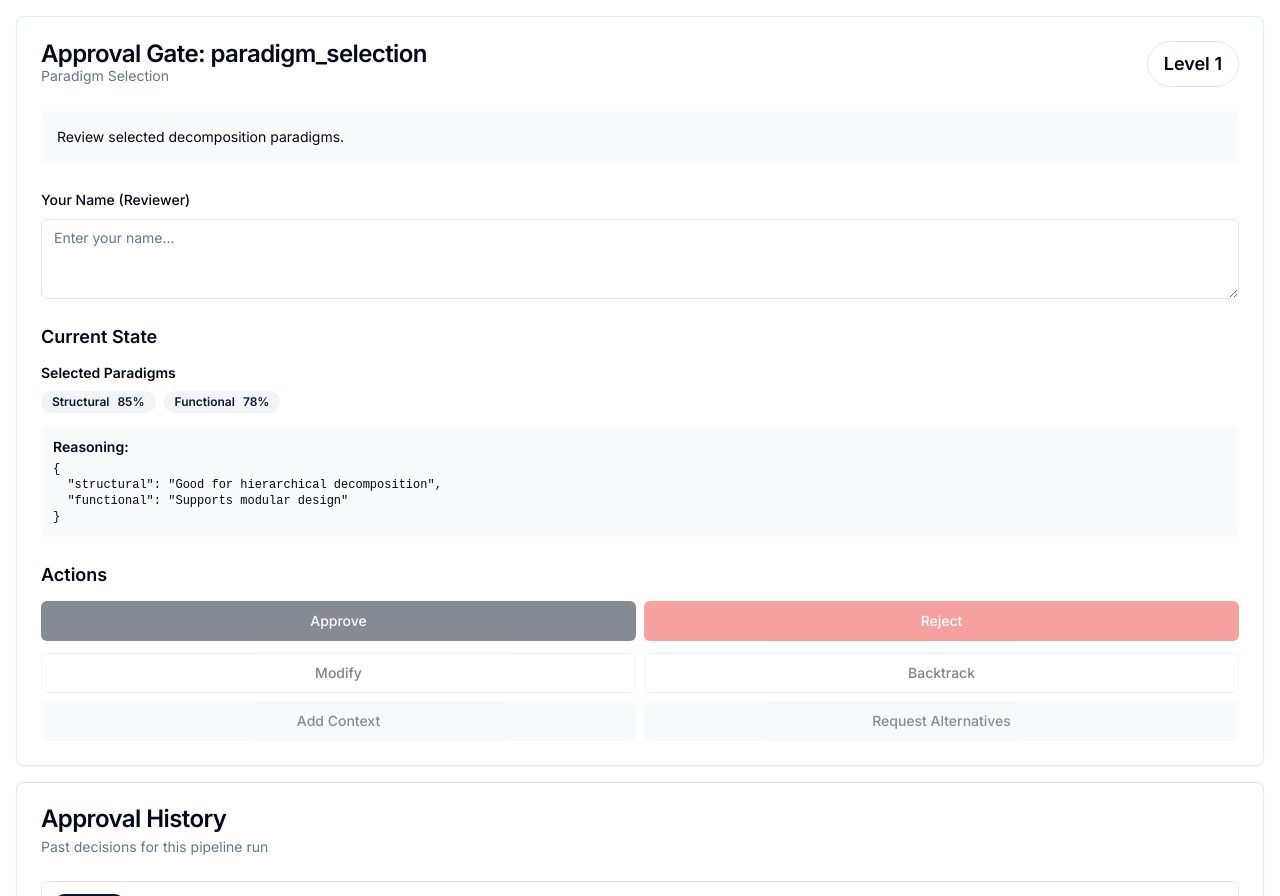
Test case: HumanApprovalGatePanel › Backtrack Action › should open backtrack dialog when backtrack button is clicked
Type "John Doe" into the text box labelled "Your Name (Reviewer)" at (640, 259), box [41,219,1239,299]
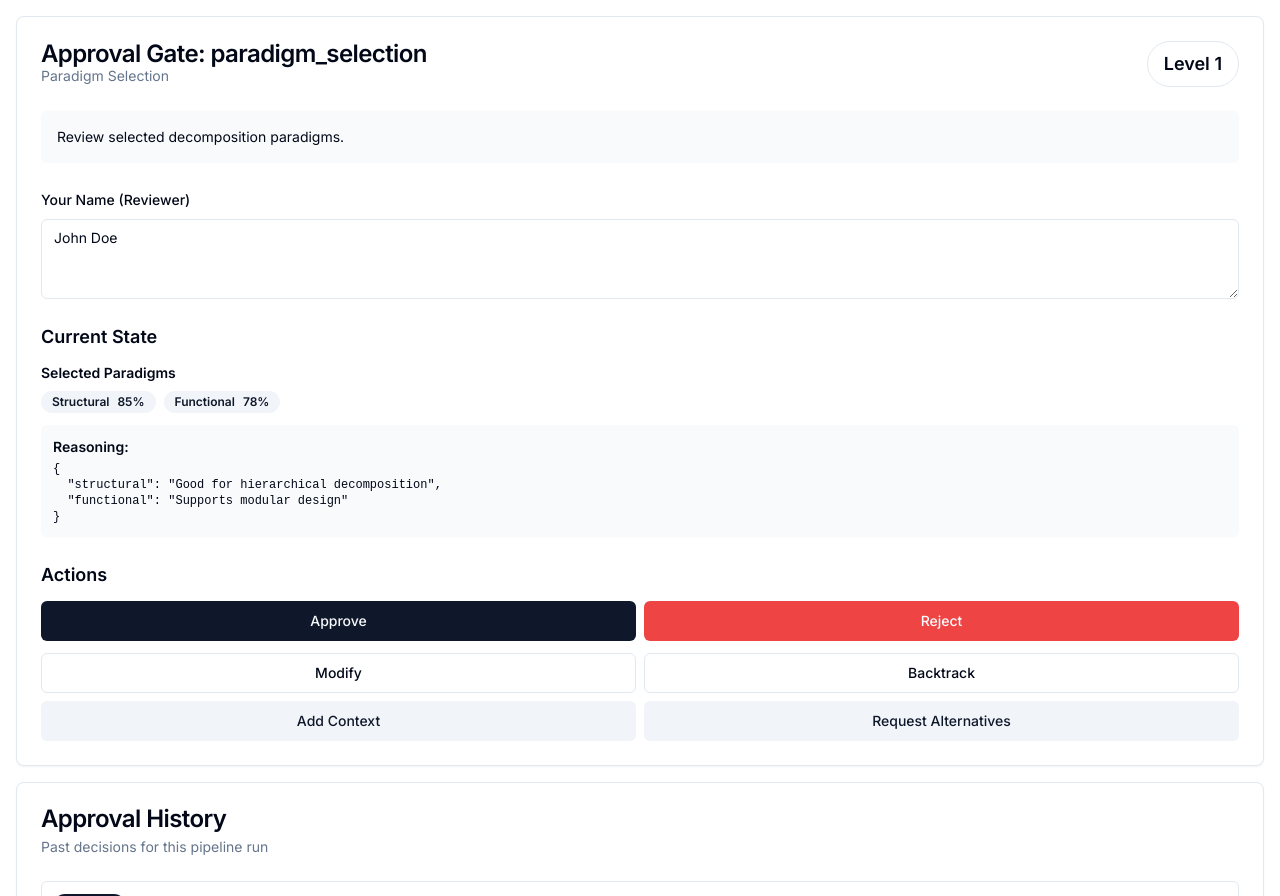
Click the button "Backtrack" at (942, 673), box [644,653,1239,693]
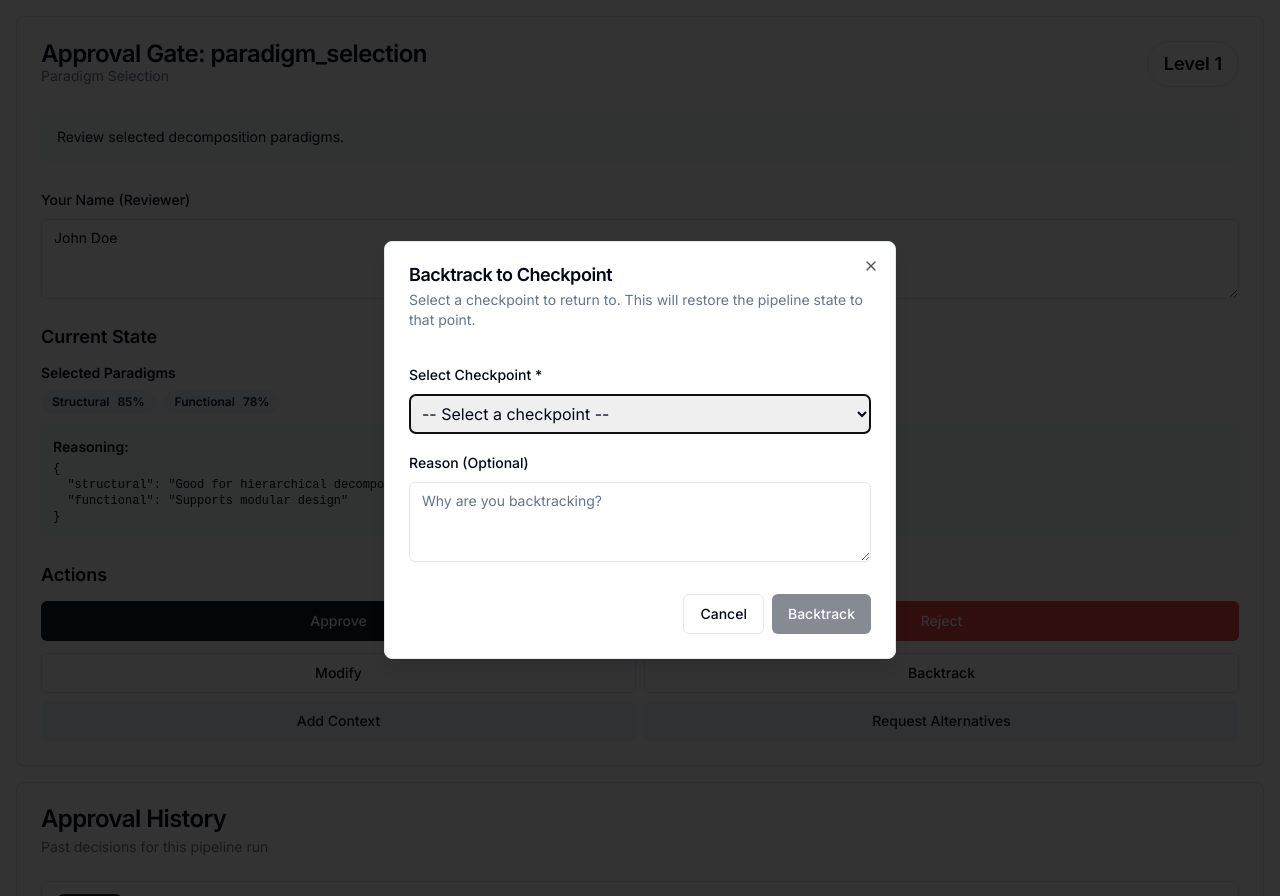
expect the heading "Backtrack to Checkpoint" is shown: met, box [409,264,612,285]
